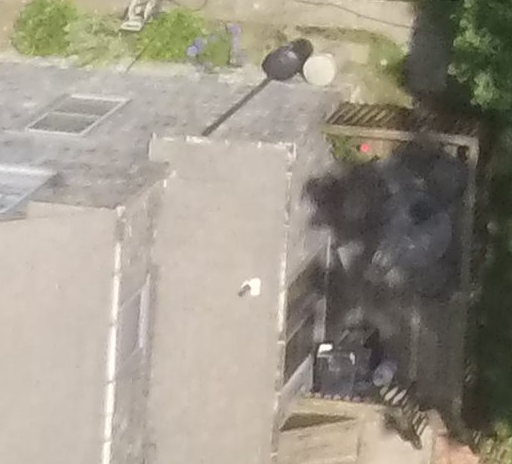container: (357, 141, 371, 155)
porch: (293, 99, 506, 459)
trash bin: (255, 32, 313, 88), (304, 48, 344, 88)
